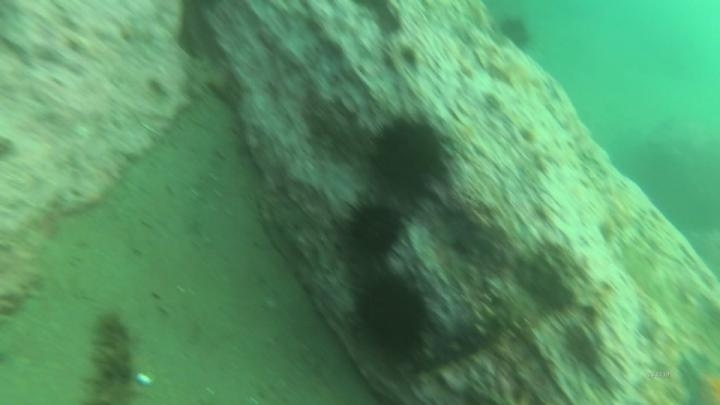echinus: (349, 269, 434, 364), (364, 110, 451, 202), (340, 196, 409, 264), (495, 13, 536, 54)
holothurian: (410, 288, 535, 378), (79, 310, 140, 405)
starfish: (674, 350, 720, 405)
